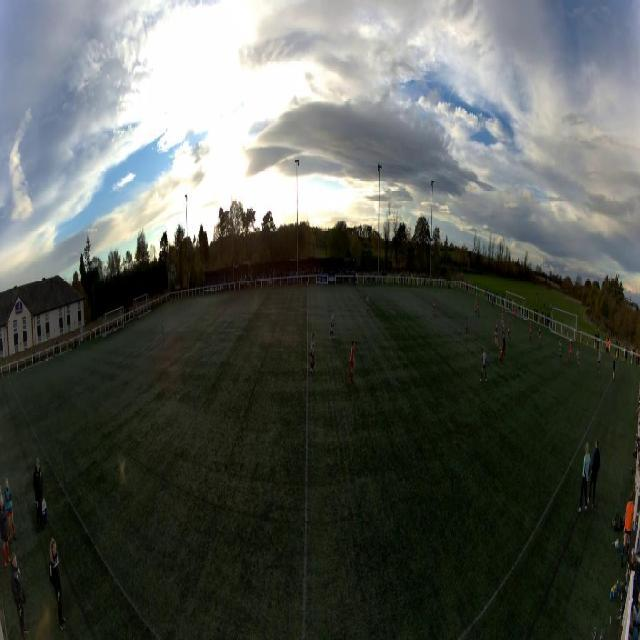ball: (497, 342, 499, 349)
player: (348, 340, 355, 382), (310, 328, 316, 376), (480, 348, 487, 383), (329, 310, 335, 339), (499, 339, 505, 368), (493, 323, 499, 349), (366, 293, 371, 315), (502, 333, 506, 359), (162, 318, 166, 343), (464, 315, 468, 339), (507, 319, 511, 343), (576, 347, 580, 371), (501, 320, 505, 344), (568, 341, 572, 363), (597, 350, 601, 372), (432, 297, 436, 316), (538, 328, 541, 350), (559, 340, 562, 361), (529, 322, 532, 343), (501, 308, 504, 324), (477, 299, 479, 317), (475, 300, 477, 317), (513, 306, 515, 322)
